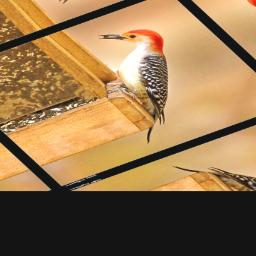Woodpecker: (49, 19, 243, 144)
